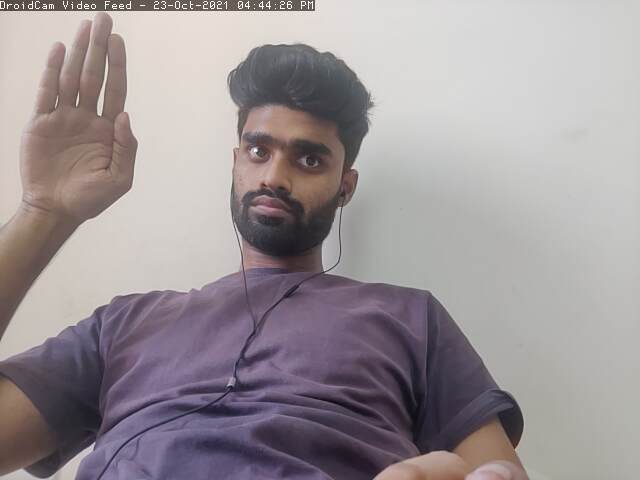Stop: (18, 14, 141, 221)
